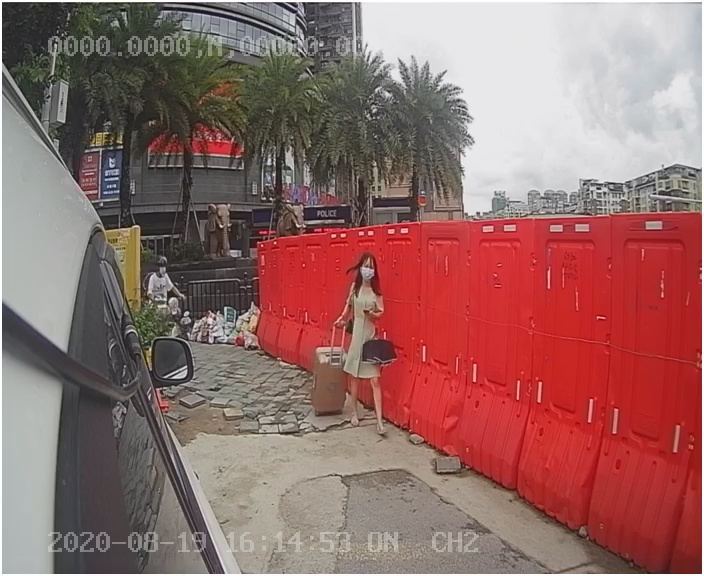person: (329, 250, 404, 444)
